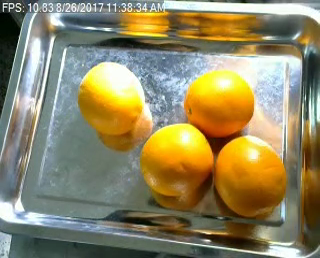Orange: (214, 136, 288, 216), (138, 122, 213, 197), (77, 61, 145, 135), (182, 69, 255, 136)
